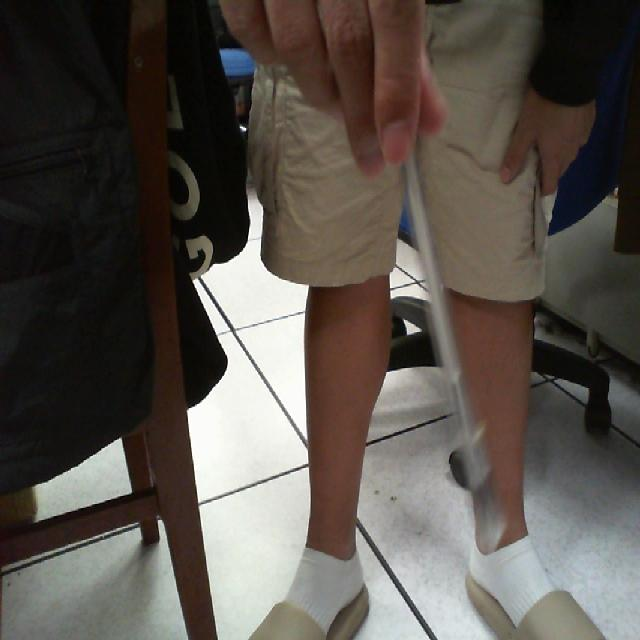Pen: (371, 101, 524, 571)
